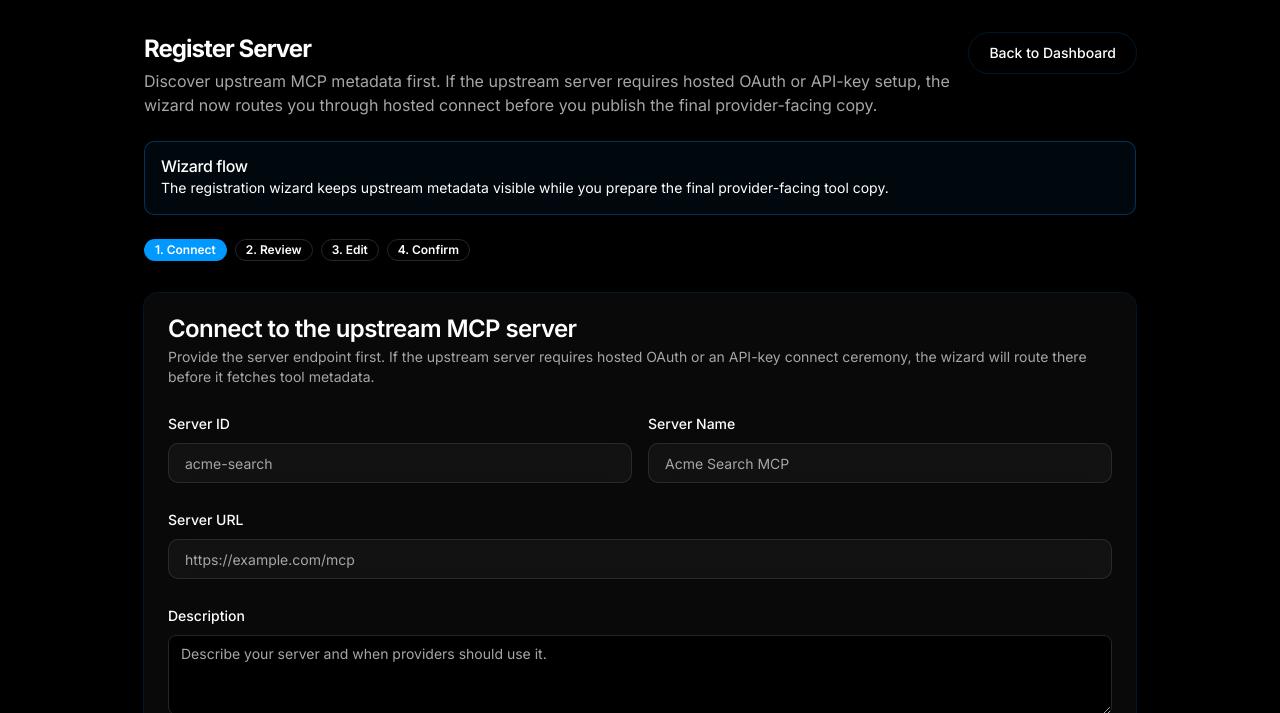
Test: RegisterServer page › does not serialize published_parameter_metadata for untouched discovered parameters
The image size is (1280, 713).
Later steps or results of the test are not shown.
Step 1. Type "srv" into the field labelled "Server ID" → (400, 463), box [168, 443, 632, 483]
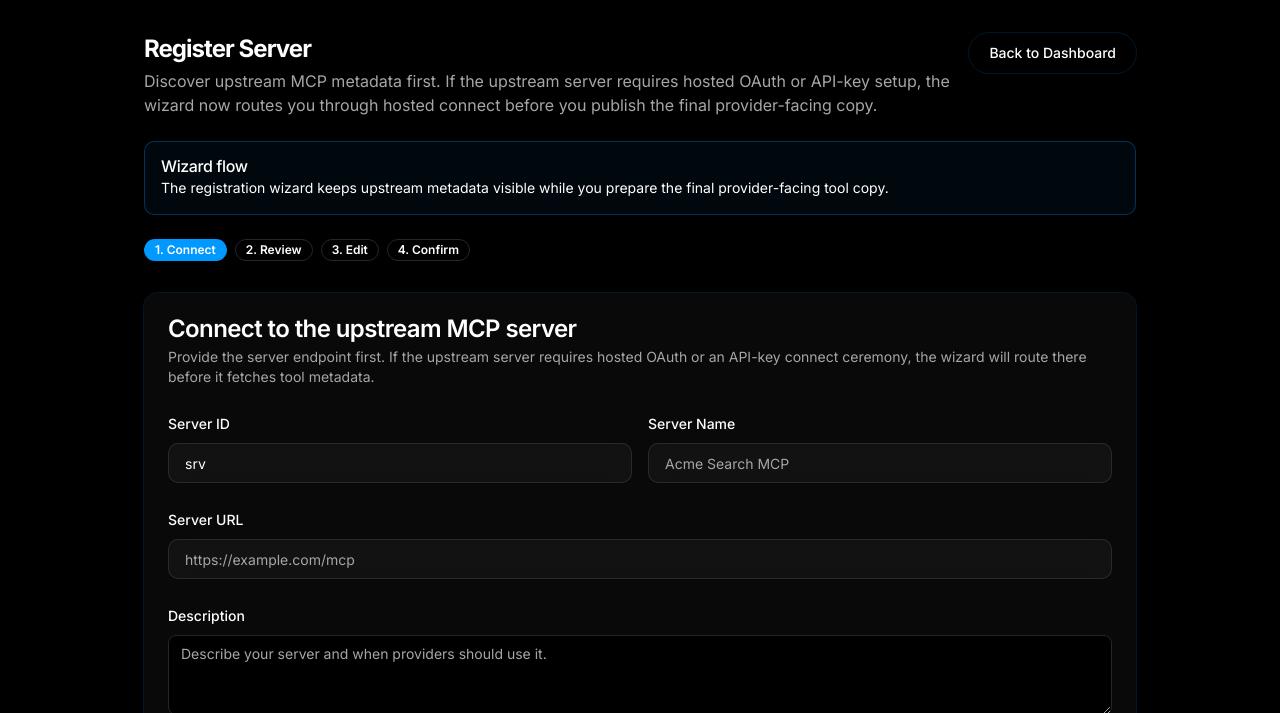
Step 2. Type "Owned Server" into the field labelled "Server Name" → (880, 463), box [648, 443, 1112, 483]
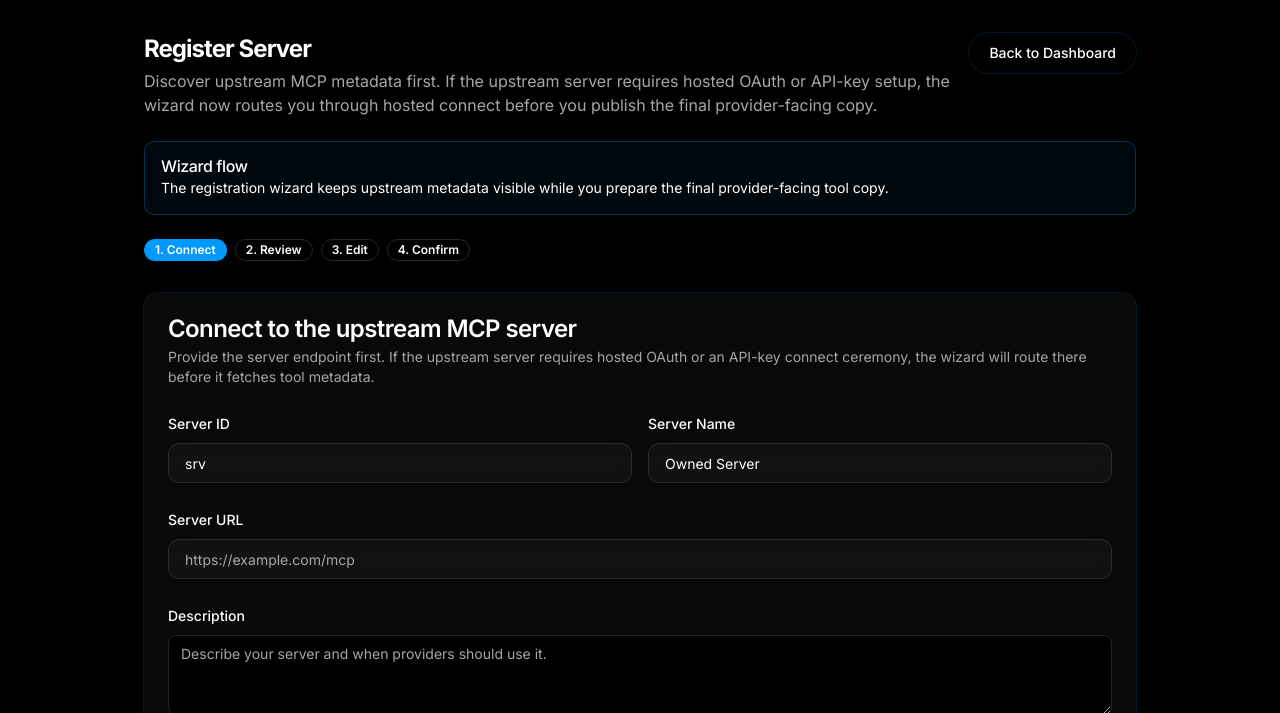
Step 3. Type "https://provider.test/mcp" into the field labelled "Server URL" → (640, 559), box [168, 539, 1112, 579]
(page scrolled)
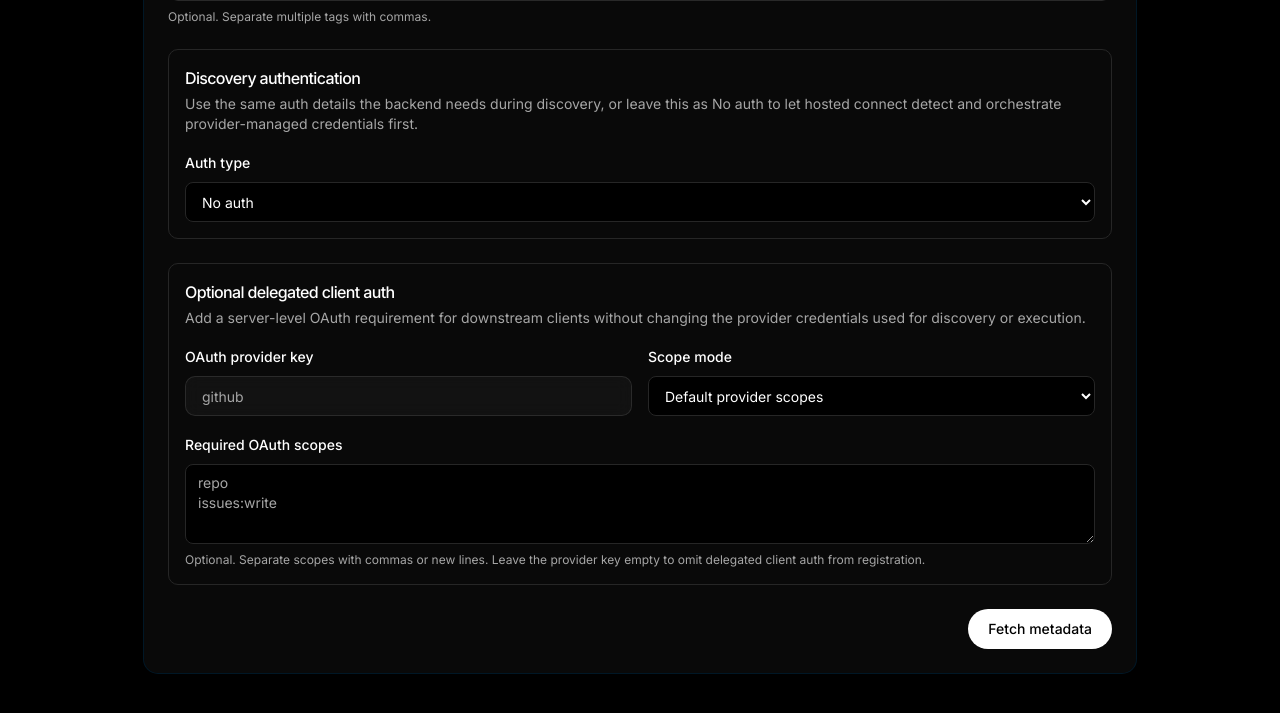
Step 4. Click the button "Fetch metadata" → (1040, 629), box [968, 609, 1112, 649]
(page scrolled)
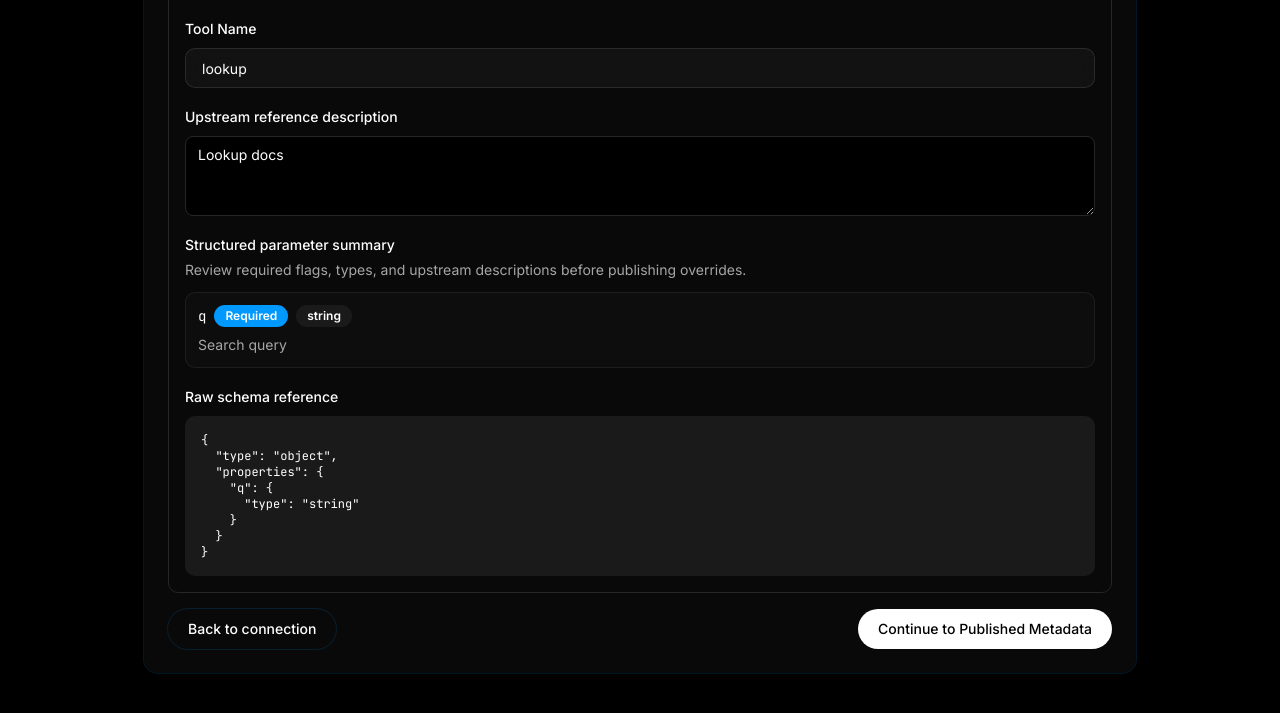
Step 5. Click the button "Continue to Published Metadata" → (985, 629), box [858, 609, 1112, 649]
(page scrolled)
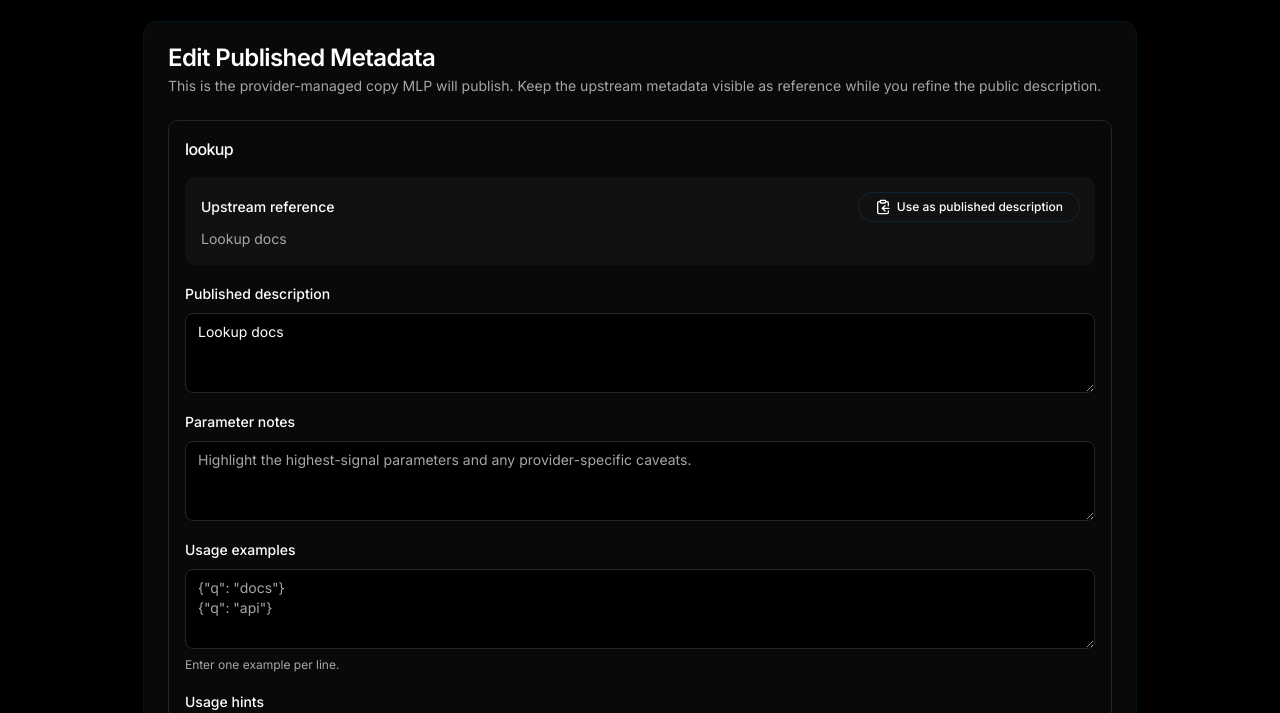
Now the heading "Edit Published Metadata" is shown, box [168, 43, 435, 72]
